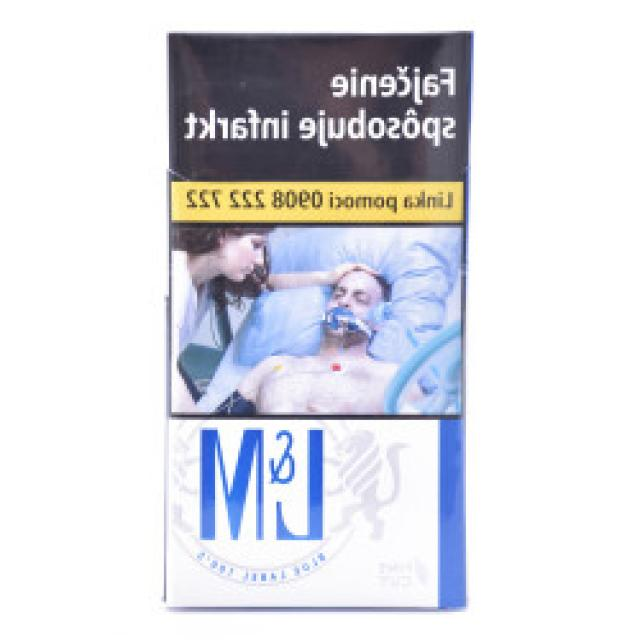lm: (158, 29, 476, 612)
